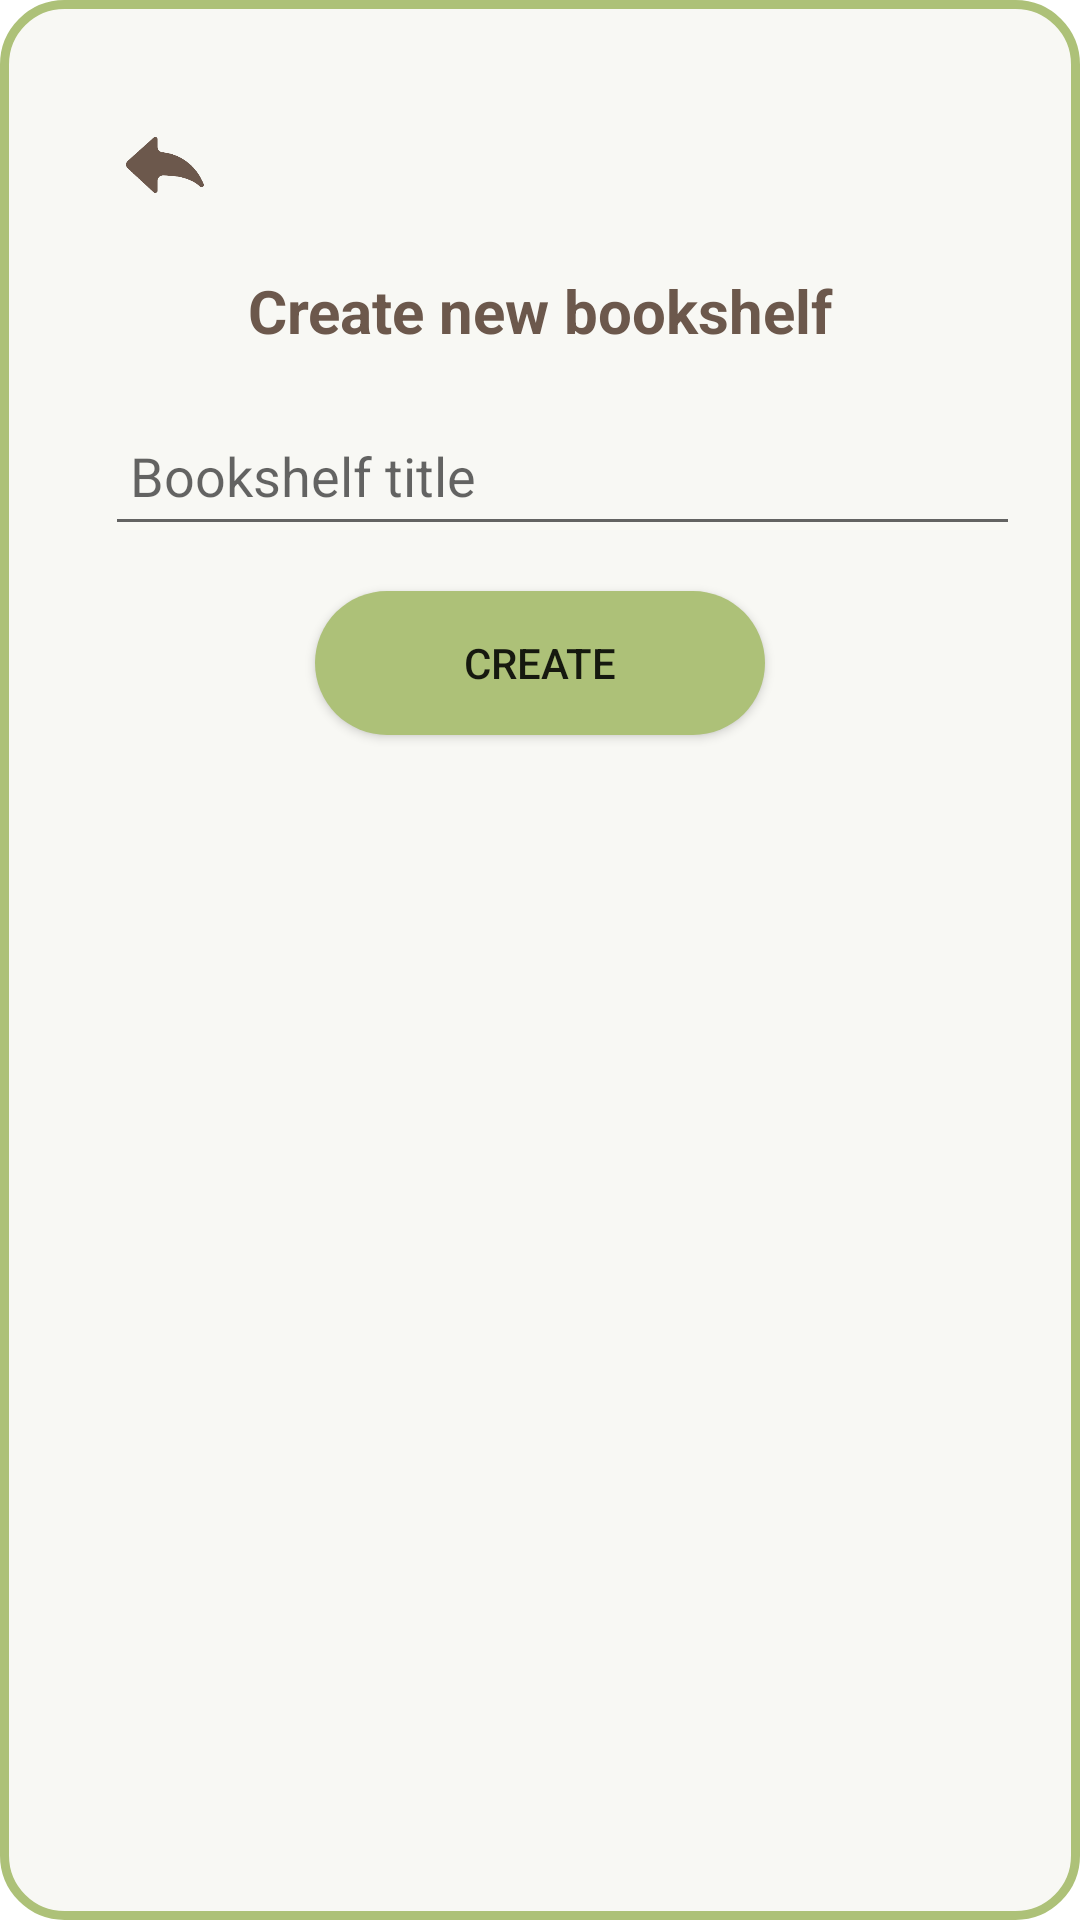

Icons on this 1080 × 1920 Android screen, each with its box as (x1, y1, x2, y2):
back: (126, 137, 204, 193)
